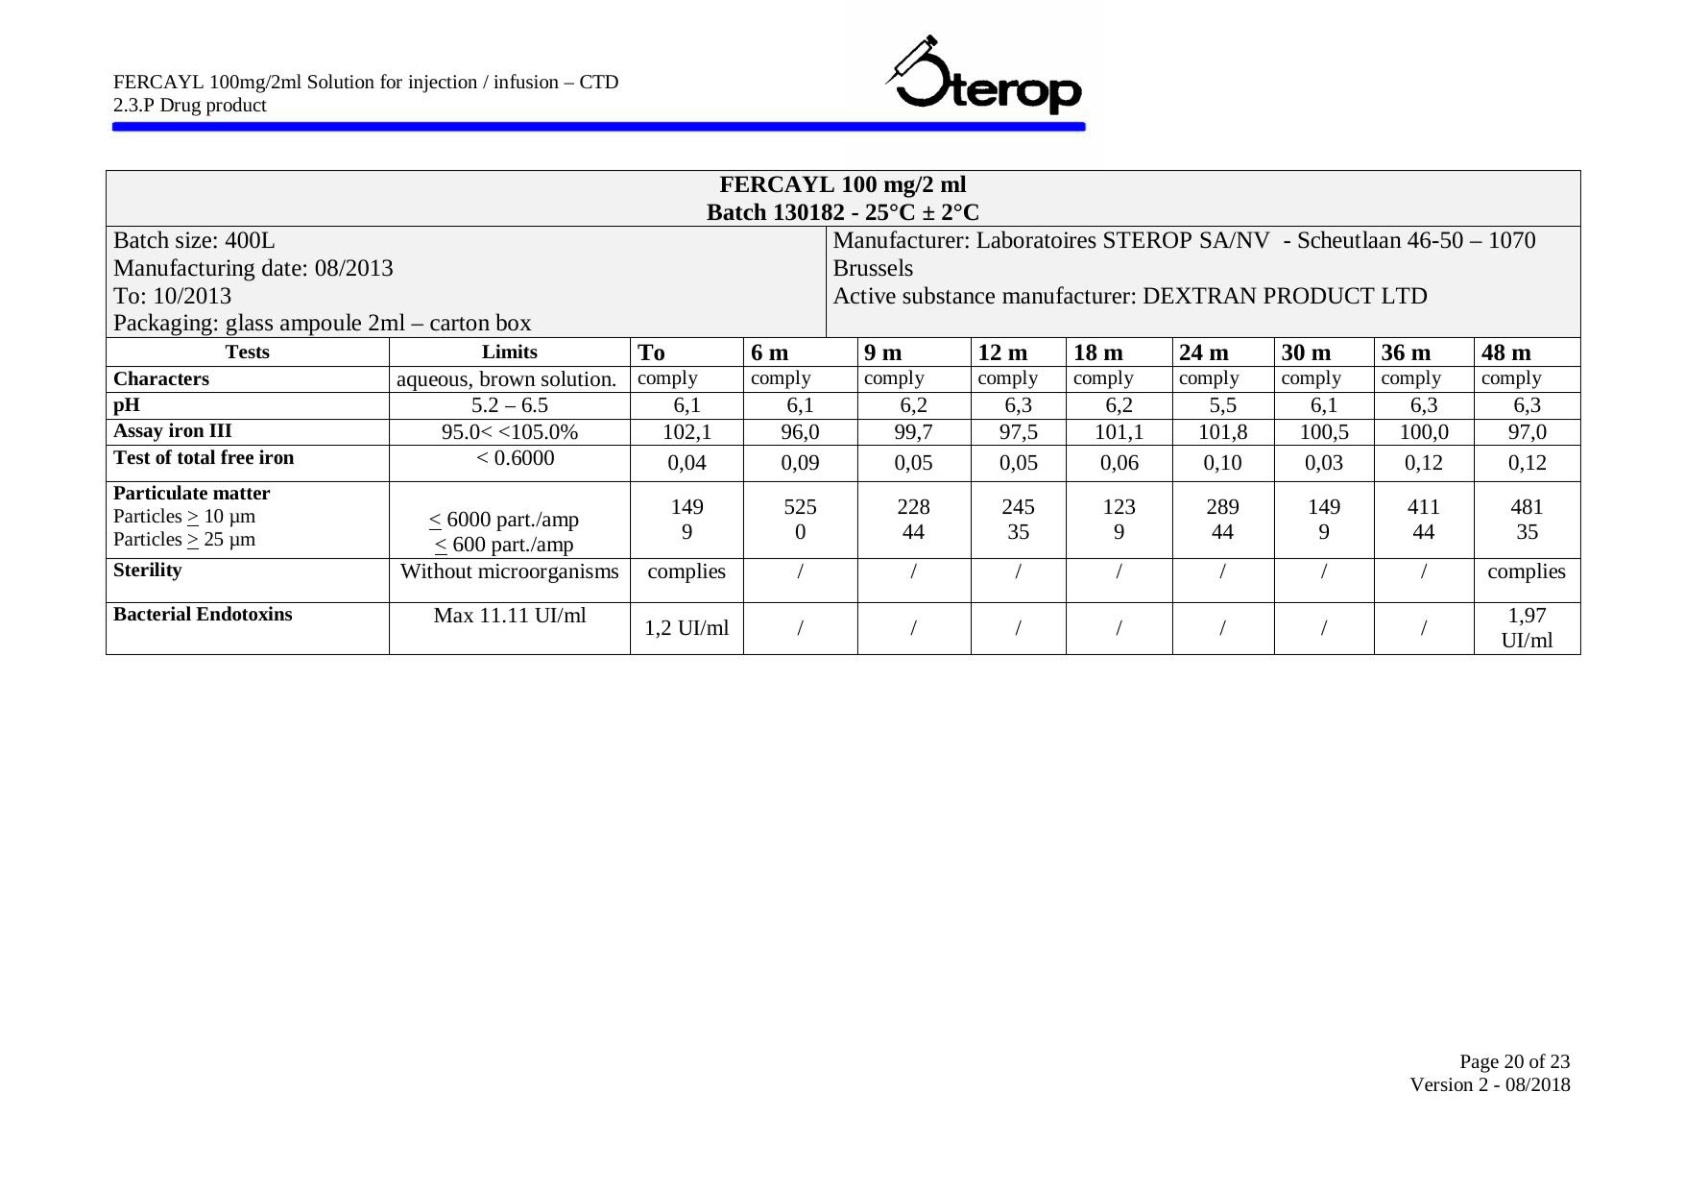merged_cells: (104, 168, 1582, 657)
